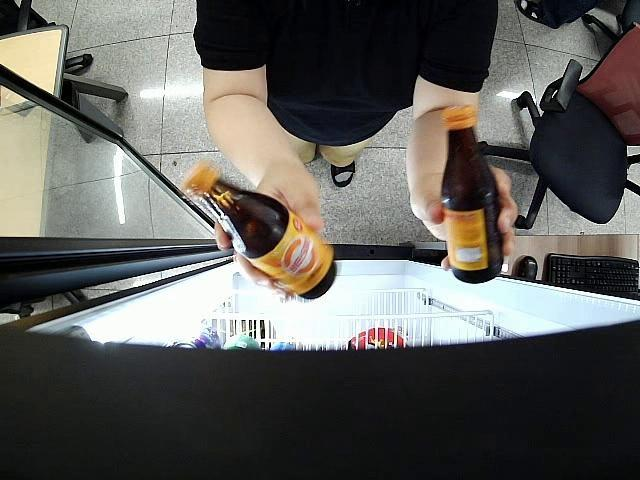17_vita500: (180, 162, 340, 301), (438, 104, 504, 284)
